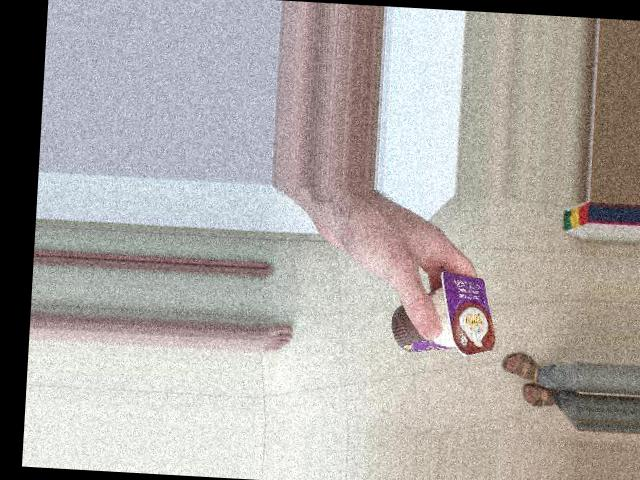milky: (390, 273, 504, 358)
